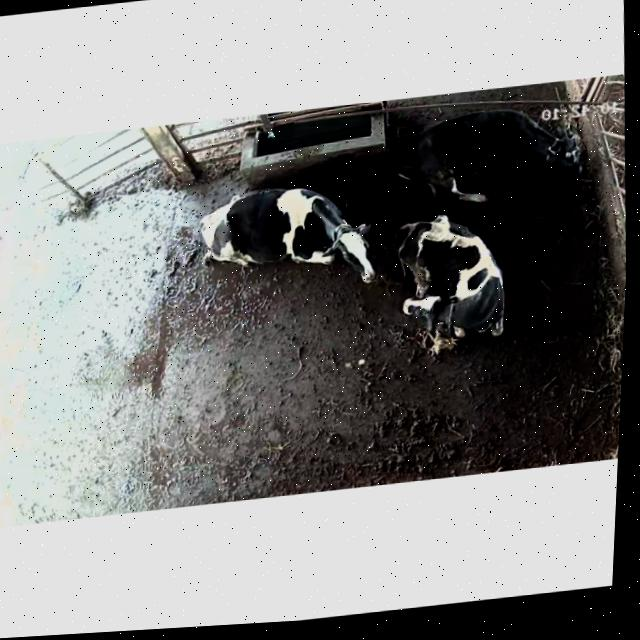lay: (174, 160, 384, 318), (374, 92, 600, 217), (380, 201, 526, 365)
